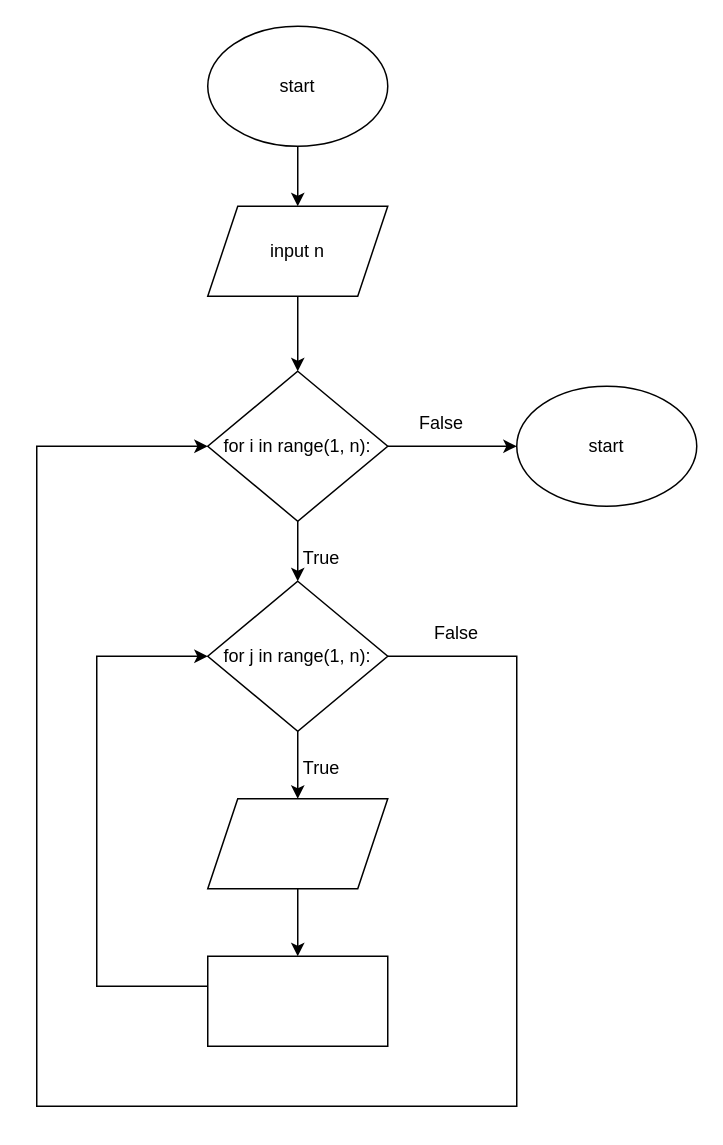
This 723x1145 diagram has some shape labels left out. The shapes that lost their labels are listed below. From the top down, each one's centre as x and y in pixels, then its label:
At point 297,843: "print(i)".
At point 297,1000: "end for j".
